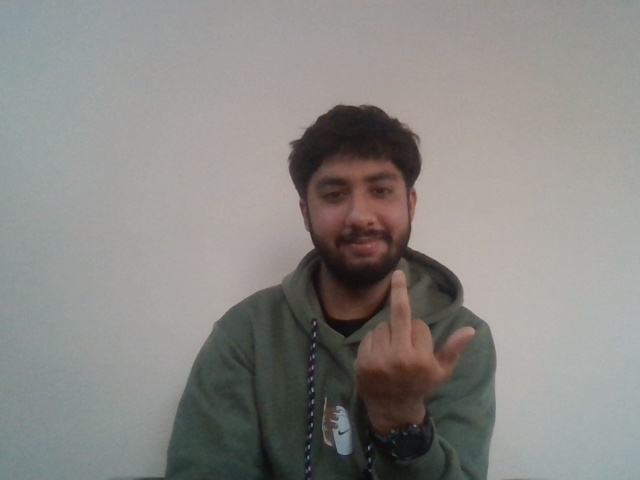Hello: (352, 268, 481, 399)
